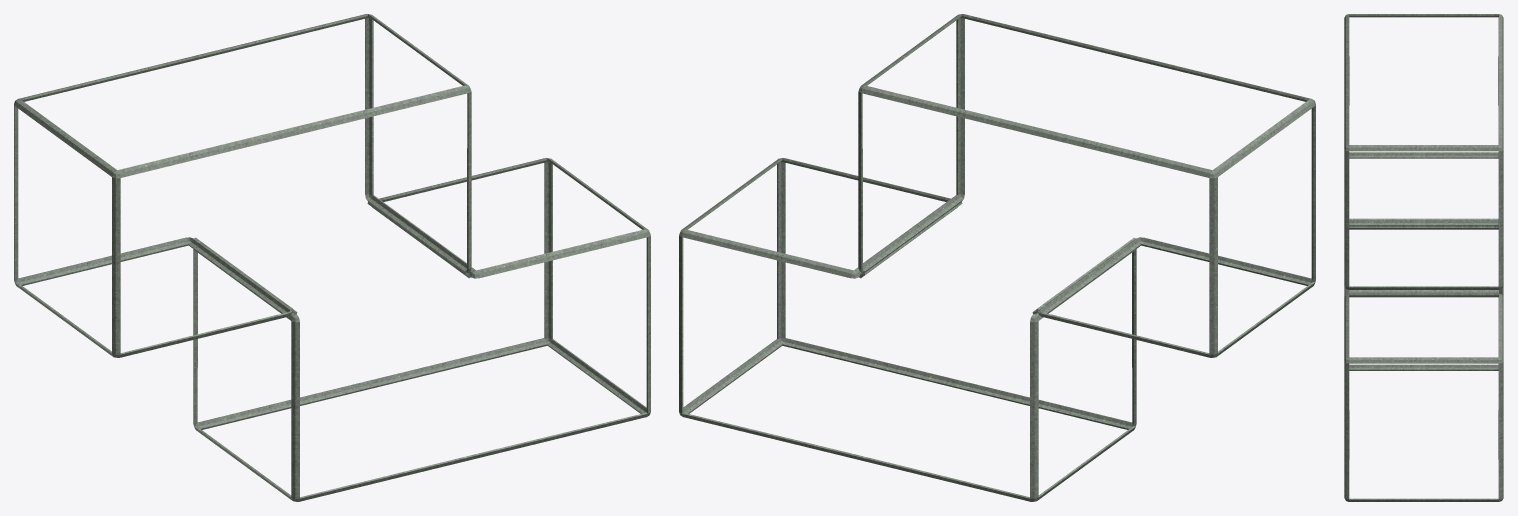
The model's file is Z_arm.fbx.
3 views of the same model, side by side, from view 1: azimuth 30°, elevation 25°; view 2: azimuth 150°, elevation 25°; view 3: azimuth 270°, elevation 25° (orthographic). The views are drawn at different scales.
Parts seen in each view (by area): view 1: module_biais_armature; view 2: module_biais_armature; view 3: module_biais_armature.
Part boxes in pixels (x1,y1,x2,y2): module_biais_armature: (14, 14, 650, 501); module_biais_armature: (679, 14, 1315, 501); module_biais_armature: (1344, 14, 1503, 501).
Bounding box in the file's own units: 300 × 200 × 100.
